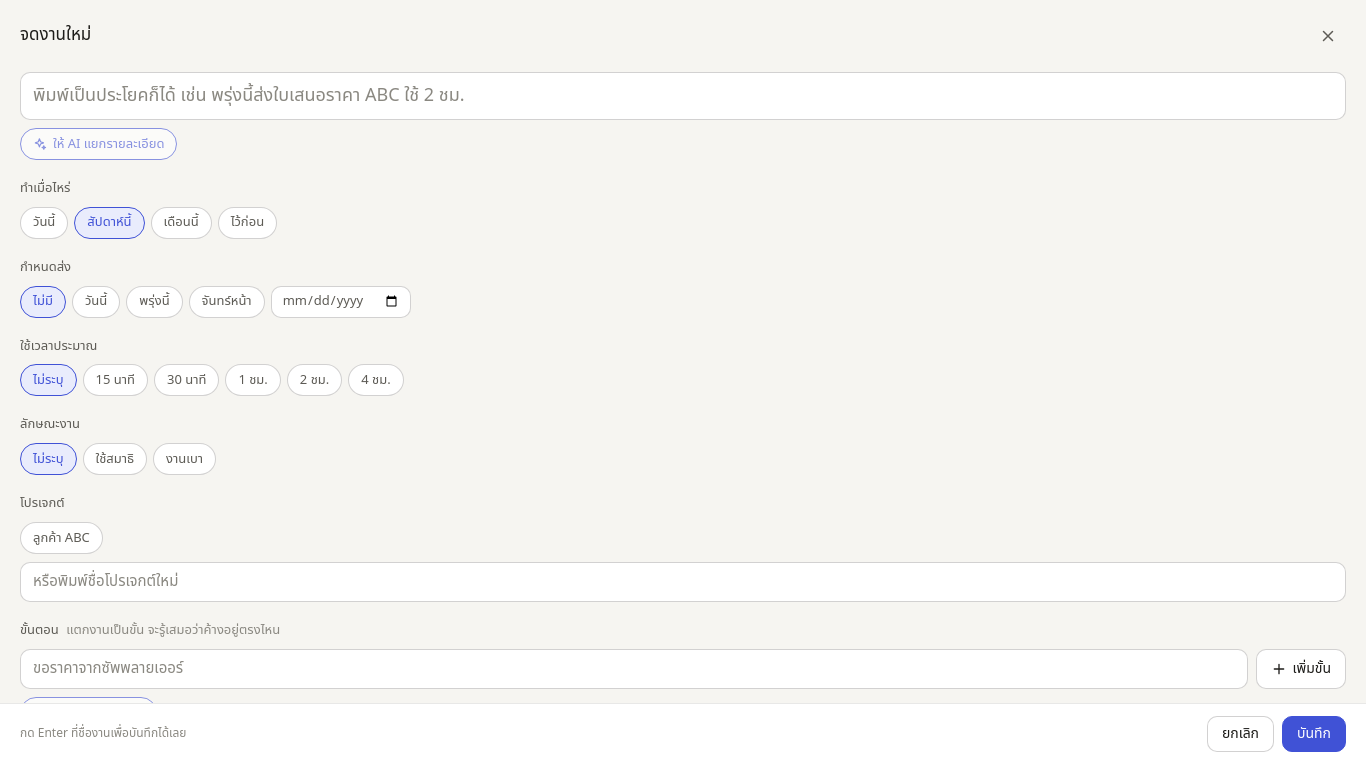
CaptureForm with the AI assistant › shows a Thai error and keeps what was typed when the AI fails
Type "ประโยค" into the field named "ชื่องาน" at [683, 96], box x1=20 y1=72 x2=1346 y2=120
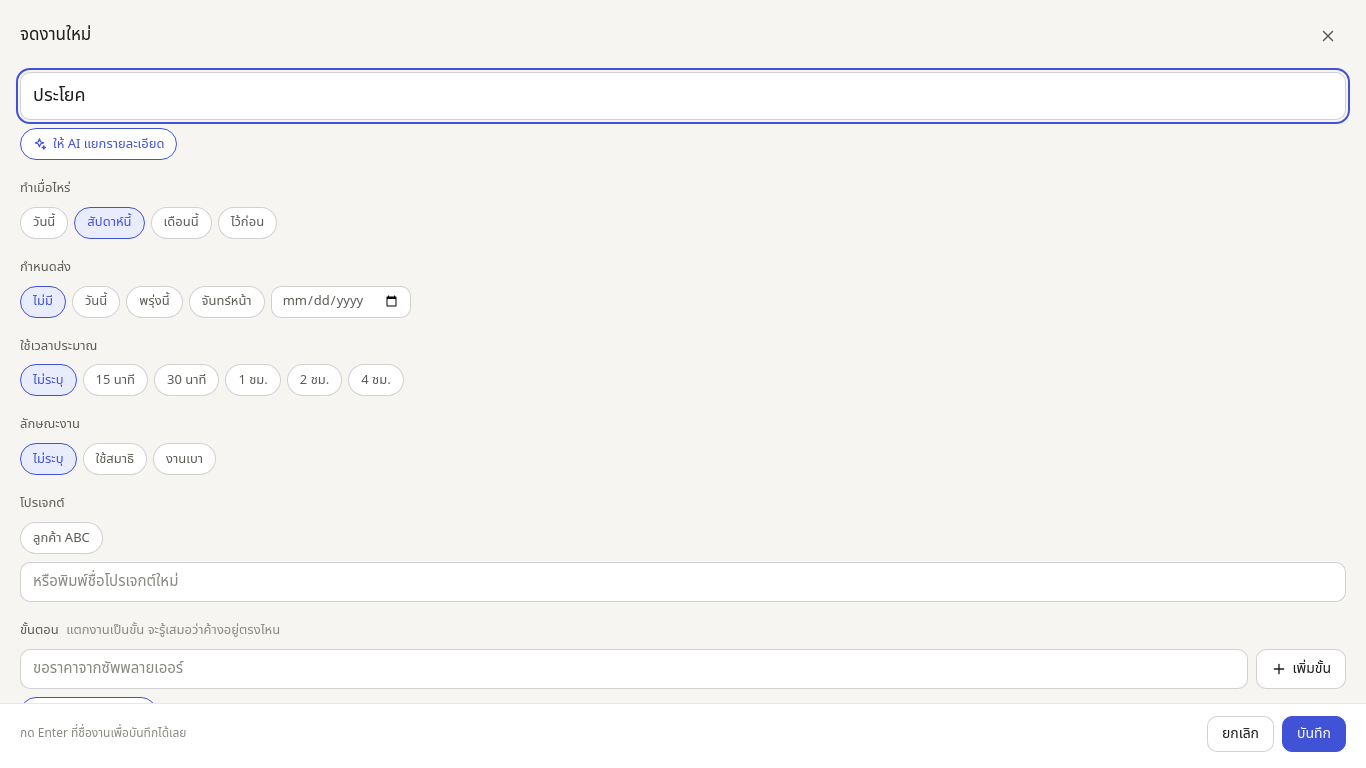
Click the button "ให้ AI แยกรายละเอียด" at [99, 144], box x1=20 y1=128 x2=177 y2=160
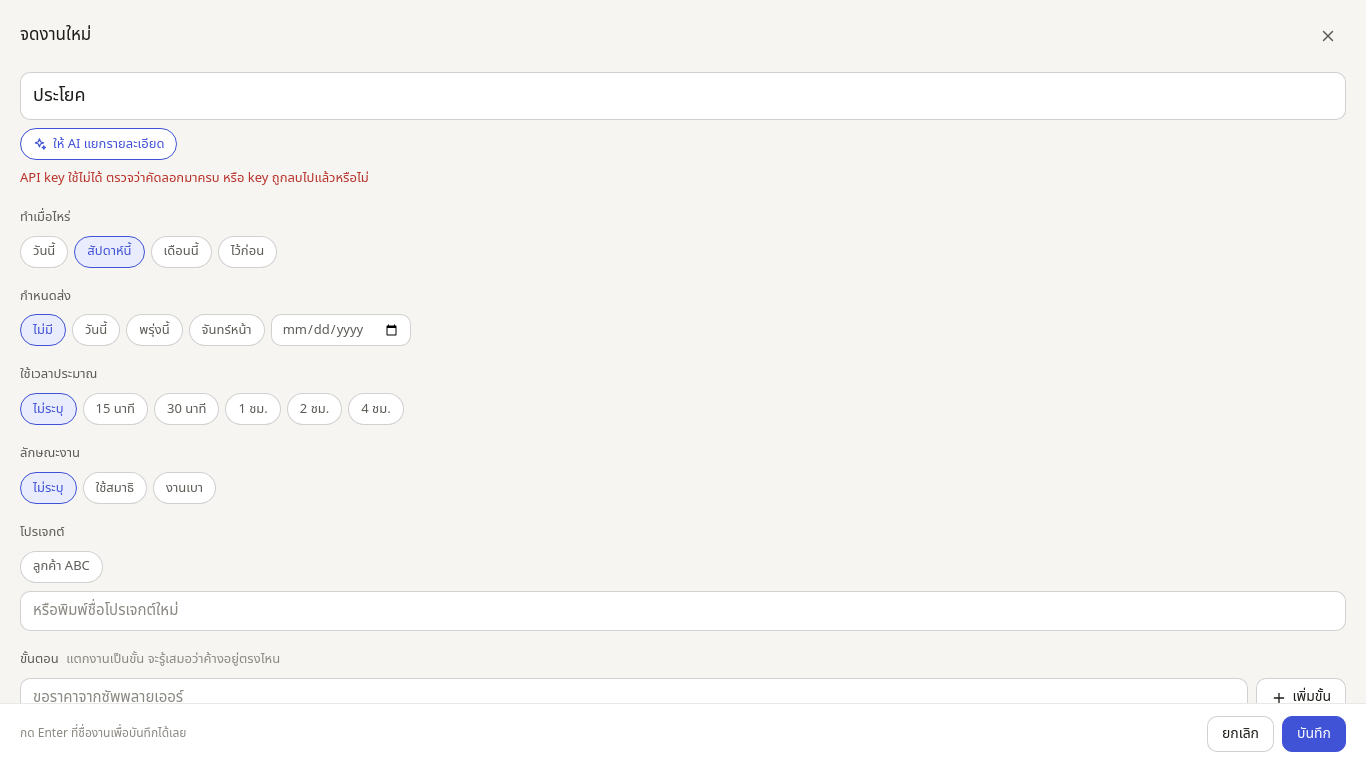
Now the message shows "API key ใช้ไม่ได้", box x1=20 y1=168 x2=369 y2=188
